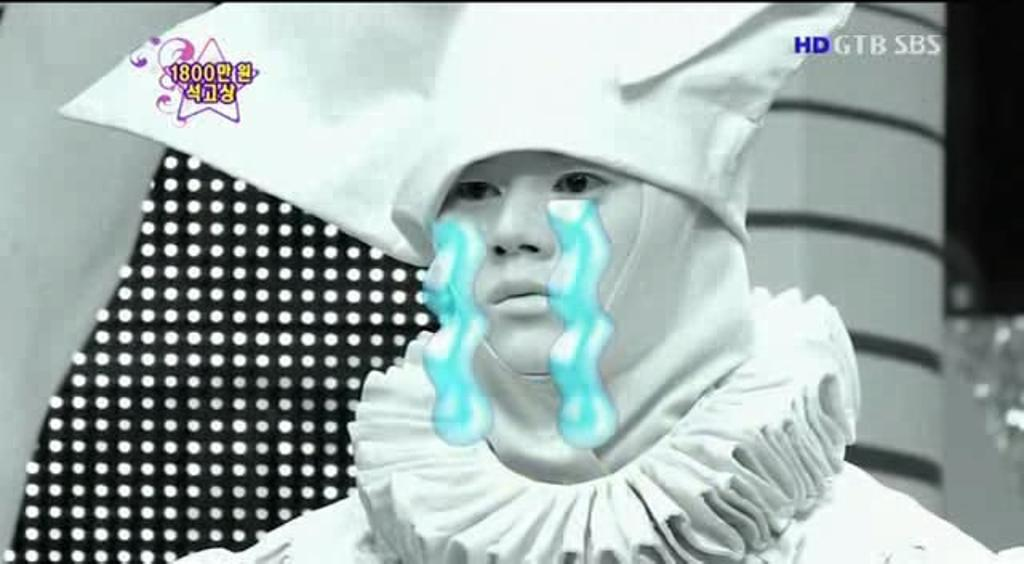face: (436, 122, 666, 380)
